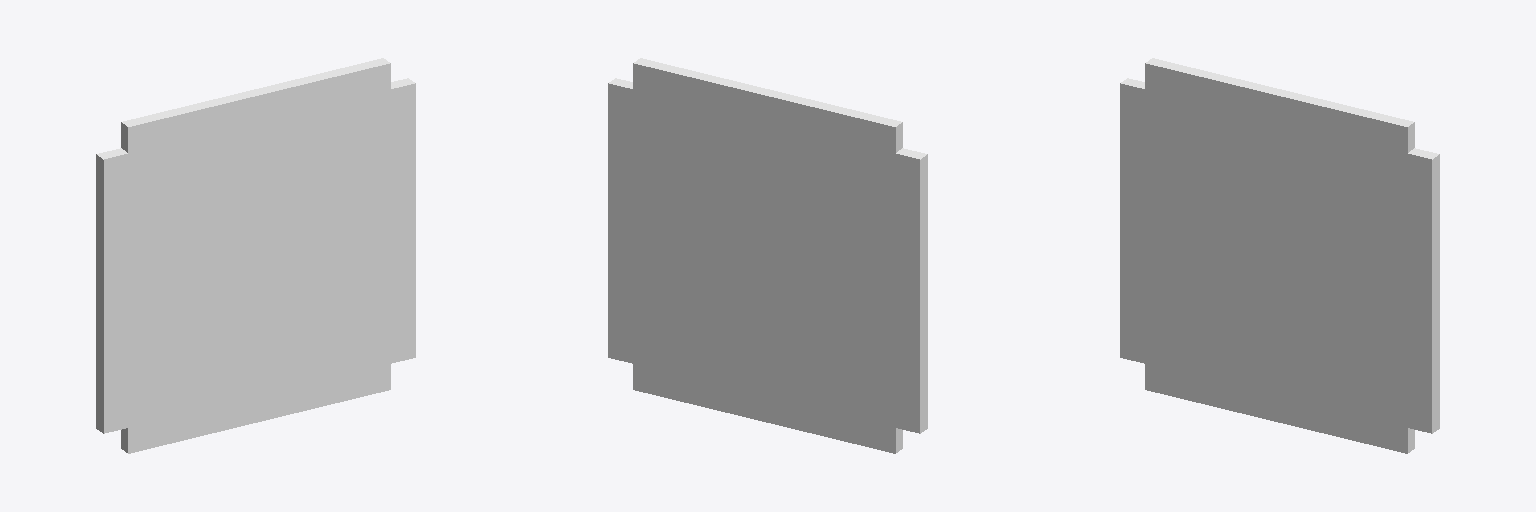
File: return_btn.obj
3 renders of one model, left to right at view 1: azimuth 30°, elevation 25°; view 2: azimuth 150°, elevation 25°; view 3: azimuth 330°, elevation 25°, orthographic.
Bounding box in the file's own units: 25 × 25 × 1.